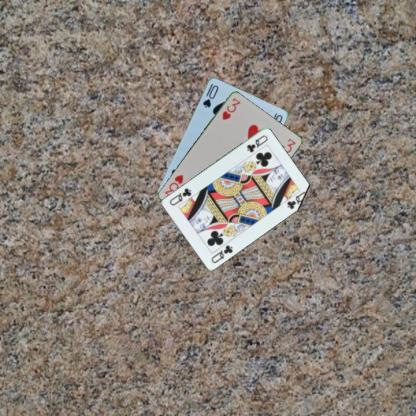10s: (200, 82, 219, 109)
3h: (219, 96, 242, 122)
Qc: (245, 132, 270, 154), (209, 242, 234, 264)
